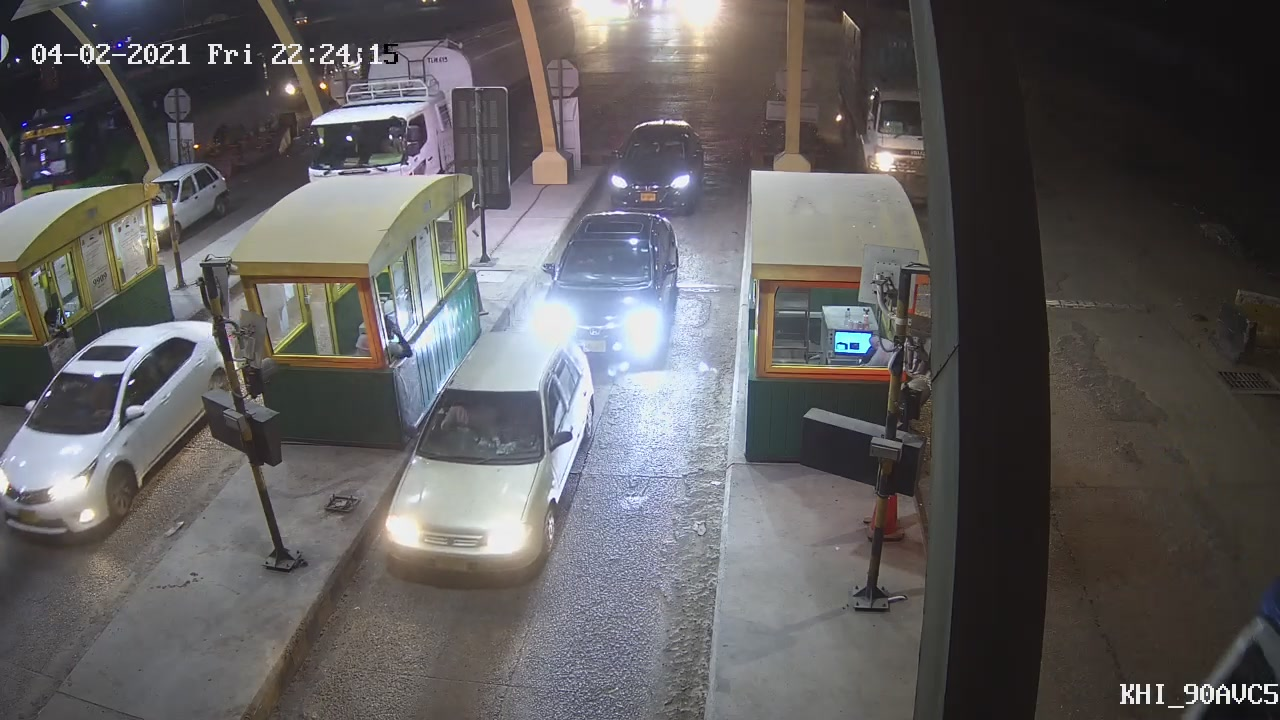F1: (376, 326, 600, 577)
